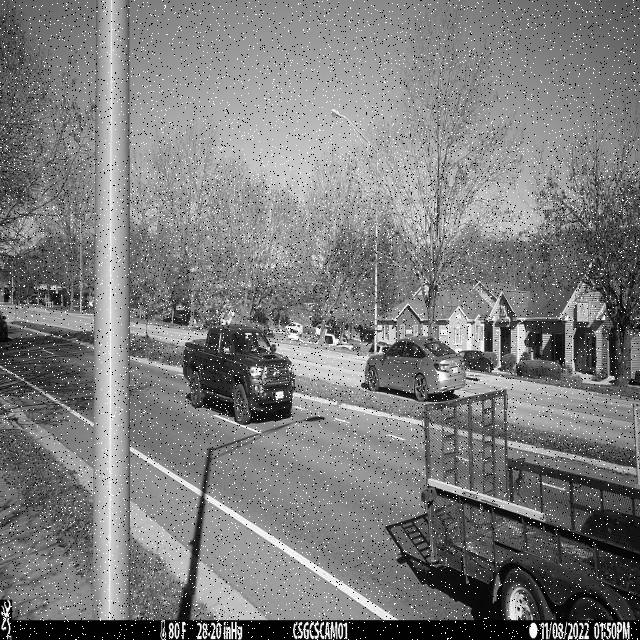Pickup: (183, 324, 297, 425)
